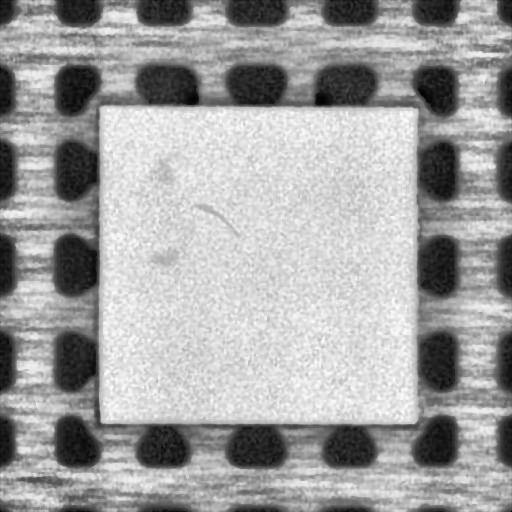DIE_CRACK: (192, 200, 240, 235)
